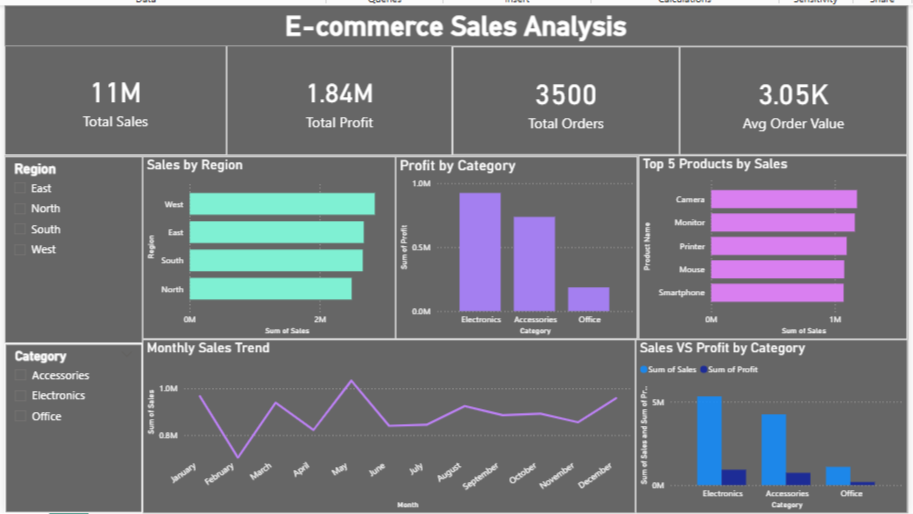

What the dashboard file says about the page in this screenshot:
{"tool":"powerbi","page":{"name":"Page 1","canvas":[1280,720],"ordinal":0},"visuals":[{"type":"card","fields":{"Values":["cleaned_data.Total Sales"]},"box":[0,52.4,314.6,160.2],"z":0},{"type":"card","fields":{"Values":["cleaned_data.Total Profit"]},"box":[314.6,56.7,320.3,155.9],"z":1000},{"type":"card","fields":{"Values":["cleaned_data.Total Orders"]},"box":[635,58.1,321.7,154.5],"z":2000},{"type":"card","fields":{"Values":["cleaned_data.Avg Order Value"]},"box":[956.7,58.1,323.1,154.5],"z":3000},{"type":"clusteredBarChart","title":"Sales by Region","fields":{"Category":["cleaned_data.Region"],"Y":["Sum(cleaned_data.Sales)"]},"box":[195.6,214,358.6,259.4],"z":4000},{"type":"clusteredColumnChart","title":"Profit by Category","fields":{"Category":["cleaned_data.Category"],"Y":["Sum(cleaned_data.Profit)"]},"box":[554.2,214,343,259.4],"z":5000},{"type":"clusteredBarChart","title":"Top 5 Products by Sales","fields":{"Category":["cleaned_data.Product Name"],"Y":["Sum(cleaned_data.Sales)"]},"box":[898.6,212.6,381.3,260.8],"z":6000},{"type":"lineChart","title":"Monthly Sales Trend","fields":{"Y":["Sum(cleaned_data.Sales)"],"Category":["cleaned_data.Order Date.Variation.Date Hierarchy.Month"]},"box":[195.6,473.4,698.7,246.6],"z":7000},{"type":"clusteredColumnChart","title":"Sales  VS Profit by Category","fields":{"Y":["Sum(cleaned_data.Sales)","Sum(cleaned_data.Profit)"],"Category":["cleaned_data.Category"]},"box":[894.3,473.4,385.5,246.6],"z":8000},{"type":"slicer","fields":{"Values":["cleaned_data.Region"]},"box":[0,214,195.6,265],"z":9000},{"type":"slicer","fields":{"Values":["cleaned_data.Category"]},"box":[0,479.1,195.6,240.9],"z":10000},{"type":"textbox","box":[0,0,1279.8,58.1],"z":10001}]}

Visuals, with their boxes in screenshot pixels (x1, y1, x2, y2):
card - cleaned_data.Total Sales: [x1=2, y1=39, x2=224, y2=152]
card - cleaned_data.Total Profit: [x1=224, y1=42, x2=449, y2=152]
card - cleaned_data.Total Orders: [x1=449, y1=43, x2=675, y2=152]
card - cleaned_data.Avg Order Value: [x1=675, y1=43, x2=903, y2=152]
"Sales by Region" clusteredBarChart: [x1=140, y1=153, x2=392, y2=335]
"Profit by Category" clusteredColumnChart: [x1=392, y1=153, x2=633, y2=335]
"Top 5 Products by Sales" clusteredBarChart: [x1=634, y1=152, x2=903, y2=335]
"Monthly Sales Trend" lineChart: [x1=140, y1=335, x2=631, y2=509]
"Sales  VS Profit by Category" clusteredColumnChart: [x1=631, y1=335, x2=903, y2=509]
slicer - cleaned_data.Region: [x1=2, y1=153, x2=140, y2=339]
slicer - cleaned_data.Category: [x1=2, y1=339, x2=140, y2=509]
textbox: [x1=2, y1=2, x2=903, y2=43]
